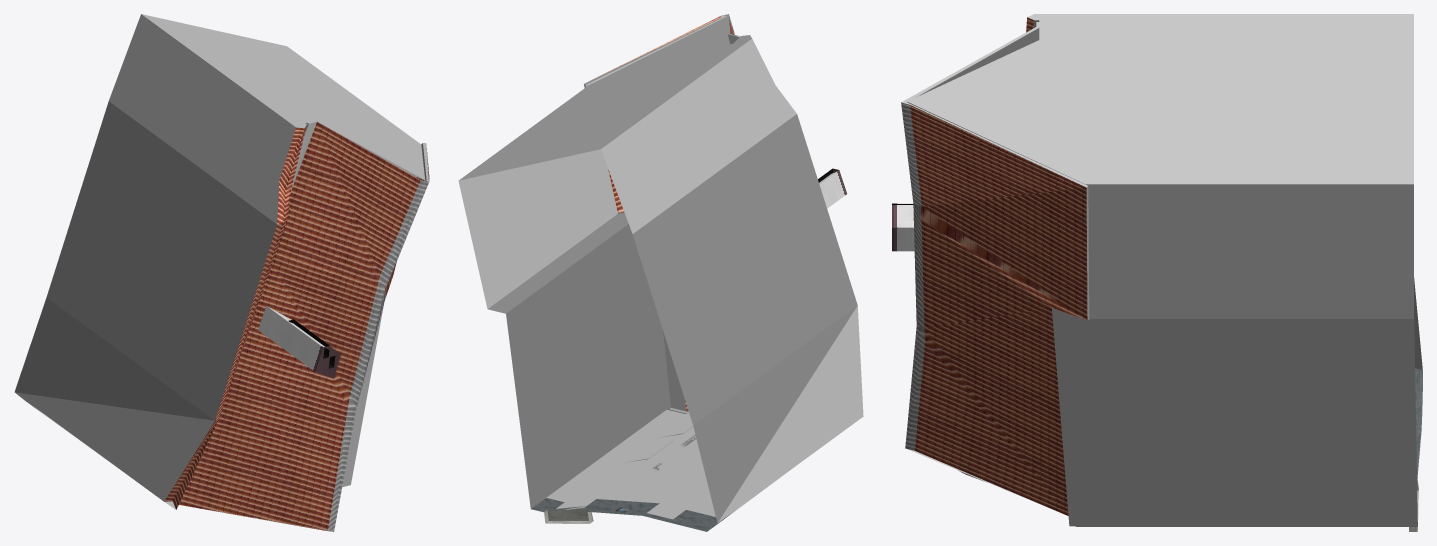
File: Hobusepea_12-origo.obj
3 renders of one model, left to right at view 1: azimuth 30°, elevation 25°; view 2: azimuth 150°, elevation 25°; view 3: azimuth 270°, elevation 25°, orthographic. The views are drawn at different scales.
Visible parts, largest first — view 1: Hobusepea_12; view 2: Hobusepea_12; view 3: Hobusepea_12.
Boxes of the visible parts, x1,y1,x2,y2 form: Hobusepea_12: (14, 14, 429, 531); Hobusepea_12: (458, 14, 863, 531); Hobusepea_12: (892, 14, 1422, 531).
Size of the model in its own units: 12.69 by 17.5 by 17.36.
